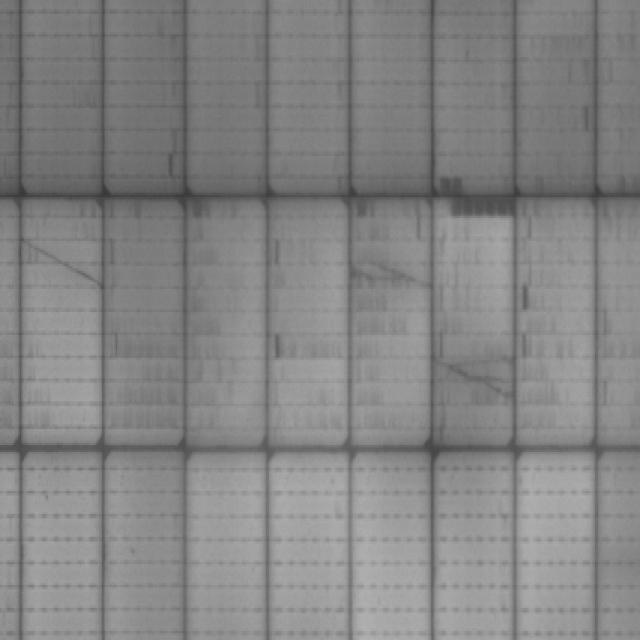CRACK: (20, 217, 106, 302), (350, 247, 434, 305), (438, 356, 514, 414)
